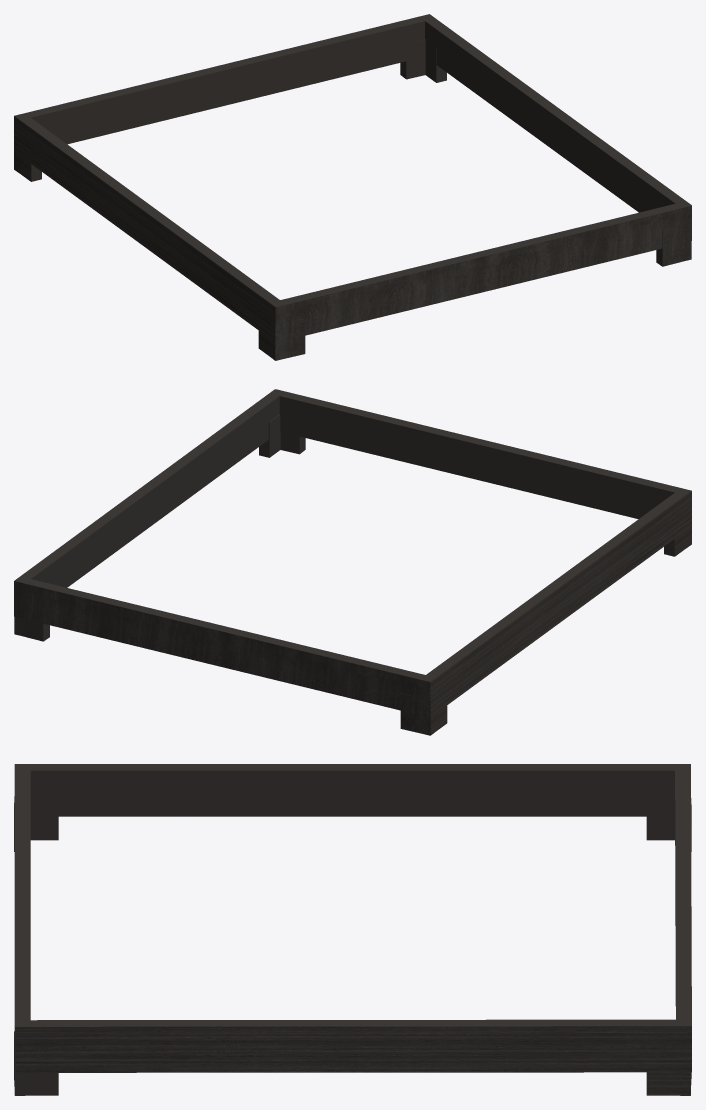
Rendered from cama.obj.
The picture shows the model from 3 angles, top to bottom: view 1: azimuth 30°, elevation 25°; view 2: azimuth 150°, elevation 25°; view 3: azimuth 270°, elevation 25°; orthographic projection. The views are drawn at different scales.
Bounding box in the file's own units: 2253 × 277 × 2454.
1 material, 1 textured.
